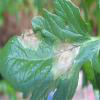Tomato leaf late blight: (1, 1, 96, 99)
